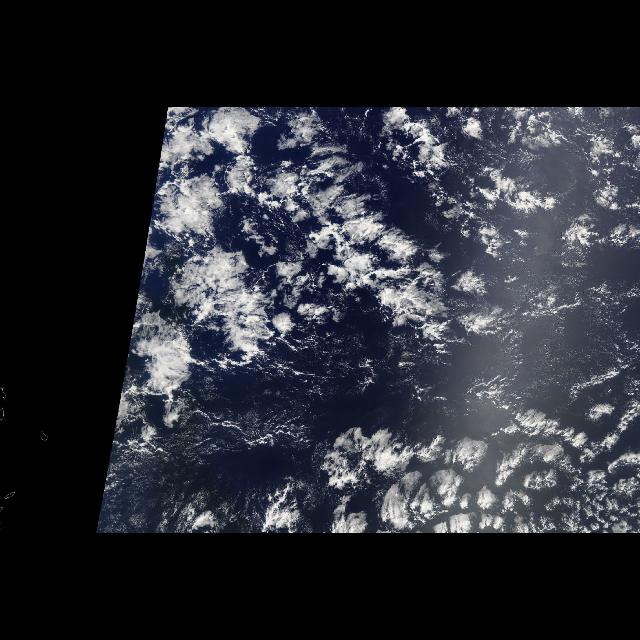Flower: (308, 388, 630, 530)
